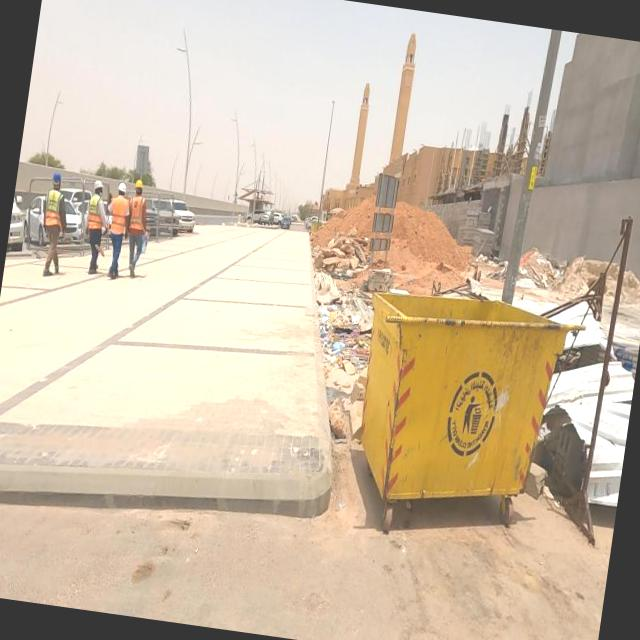debris: (441, 209, 640, 415), (501, 276, 640, 552), (272, 236, 426, 421), (290, 304, 410, 490), (286, 238, 393, 336)
